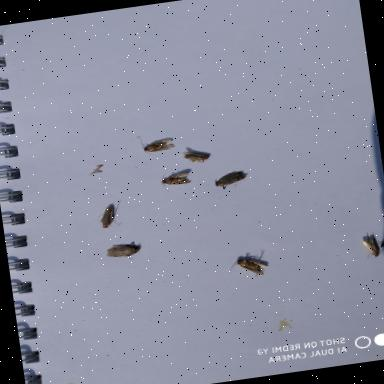pbw: (230, 244, 277, 281), (156, 166, 194, 190), (104, 236, 142, 260), (96, 201, 124, 231), (212, 166, 249, 188), (142, 134, 171, 153), (362, 230, 380, 260), (181, 146, 212, 163)
